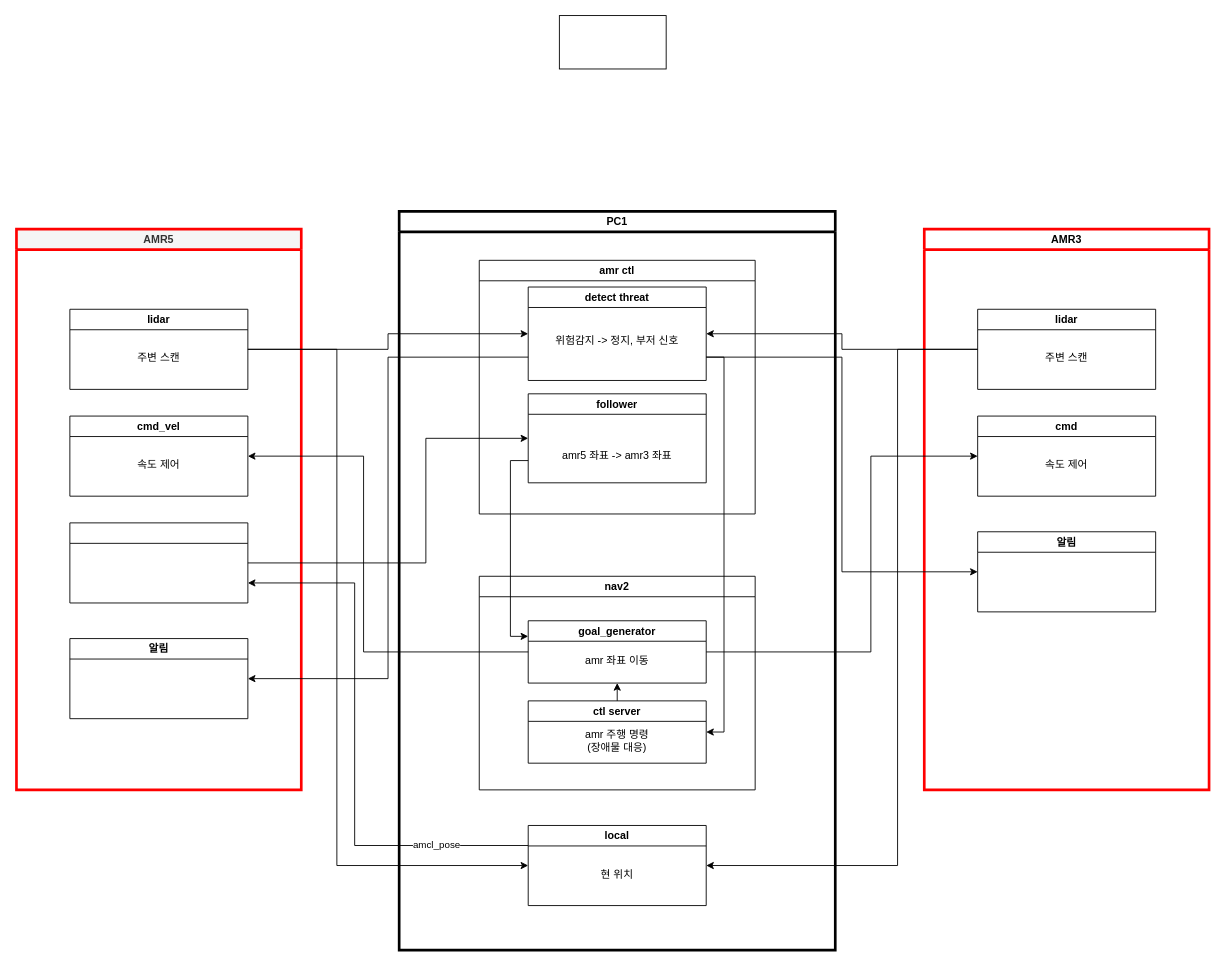
This 1226x967 diagram has some shape labels left out. Each missing label, with the centre of its shape:
tf: the point at 158,562
오라이봇: the point at 612,42
